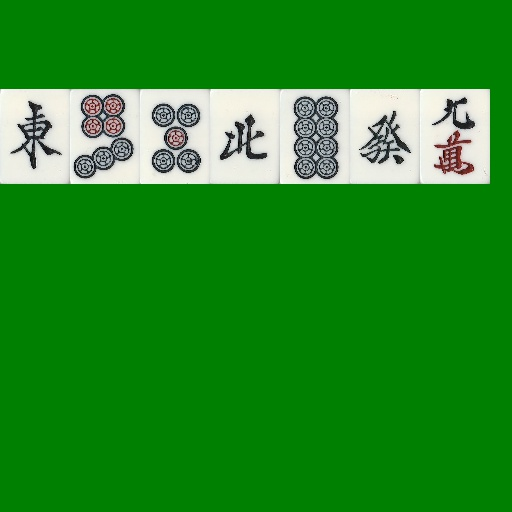5p: (140, 89, 210, 184)
7p: (70, 89, 140, 184)
8p: (280, 89, 350, 184)
9m: (420, 89, 490, 184)
east: (0, 89, 70, 184)
hatsu: (350, 89, 420, 184)
north: (210, 89, 280, 184)
